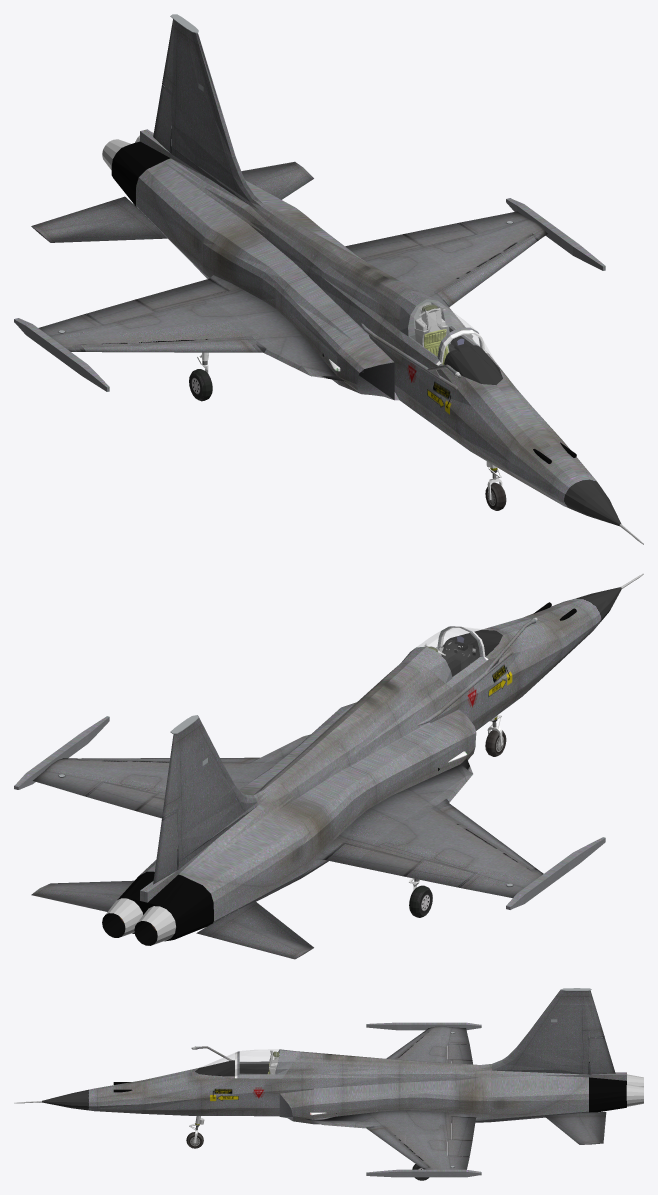
The model's file is f5emin.obj.
3 views of the same model, one above another, from view 1: azimuth 30°, elevation 25°; view 2: azimuth 150°, elevation 25°; view 3: azimuth 270°, elevation 25° (orthographic). The views are drawn at different scales.
Visible parts, largest first — view 1: fuselage, RWing, VTail, LWing, RHStab, RSlat, Windscreen, CanopyGlass, NozzleNeck, CanopyFrame, LSlat, LHStab (+9 smaller); view 2: fuselage, RWing, VTail, LWing, RHStab, NozzleNeck, LHStab, CanopyGlass, RBFlap, Nozzles, CanopyFrame, RWingtipRail (+10 smaller); view 3: fuselage, VTail, LWing, RWing, LHStab, NozzleNeck, CanopyGlass, LWingtipRail, Rudder, CanopyFrame, RWingtipRail, LSlat (+7 smaller).
Boxes of the visible parts, bbox=[...] form: fuselage: bbox=[136, 129, 621, 526]; RWing: bbox=[38, 275, 345, 381]; VTail: bbox=[162, 14, 254, 204]; LWing: bbox=[361, 211, 547, 337]; RHStab: bbox=[31, 196, 167, 242]; RSlat: bbox=[76, 338, 262, 352]; Windscreen: bbox=[442, 333, 502, 384]; CanopyGlass: bbox=[408, 299, 478, 356]; NozzleNeck: bbox=[111, 141, 170, 206]; CanopyFrame: bbox=[399, 291, 485, 364]; LSlat: bbox=[435, 233, 538, 307]; LHStab: bbox=[241, 161, 313, 199]; fuselage: bbox=[139, 587, 621, 922]; RWing: bbox=[315, 759, 543, 898]; VTail: bbox=[162, 715, 258, 869]; LWing: bbox=[33, 734, 310, 799]; RHStab: bbox=[196, 901, 313, 959]; NozzleNeck: bbox=[117, 871, 213, 941]; LHStab: bbox=[31, 880, 133, 911]; CanopyGlass: bbox=[417, 627, 480, 676]; RBFlap: bbox=[325, 843, 420, 876]; Nozzles: bbox=[102, 898, 175, 945]; CanopyFrame: bbox=[401, 626, 486, 687]; RWingtipRail: bbox=[506, 837, 605, 909]; fuselage: bbox=[42, 1051, 626, 1124]; VTail: bbox=[492, 988, 604, 1074]; LWing: bbox=[306, 1110, 478, 1169]; RWing: bbox=[396, 1026, 469, 1062]; LHStab: bbox=[544, 1112, 606, 1144]; NozzleNeck: bbox=[589, 1077, 626, 1112]; CanopyGlass: bbox=[240, 1049, 279, 1073]; LWingtipRail: bbox=[366, 1169, 481, 1177]; Rudder: bbox=[589, 1037, 615, 1074]; CanopyFrame: bbox=[237, 1049, 298, 1078]; RWingtipRail: bbox=[366, 1022, 481, 1030]; LSlat: bbox=[367, 1125, 429, 1168].
Bounding box in the file's own units: 8.36 × 4.15 × 14.91.
